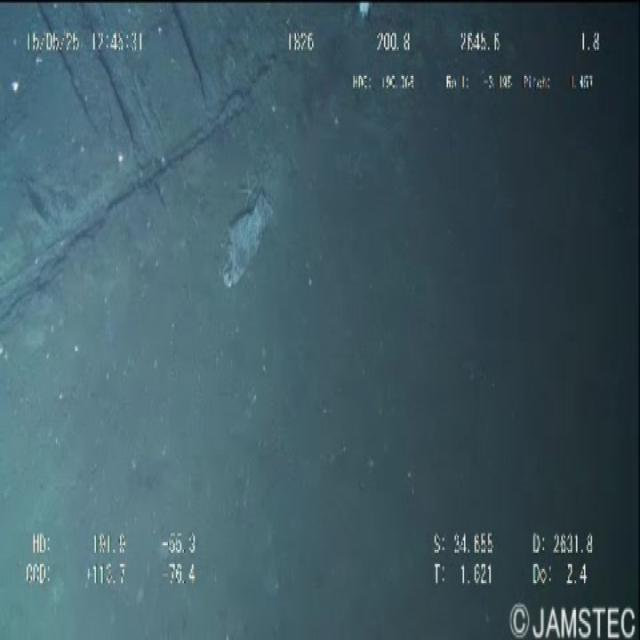Litter: (194, 190, 278, 307)
